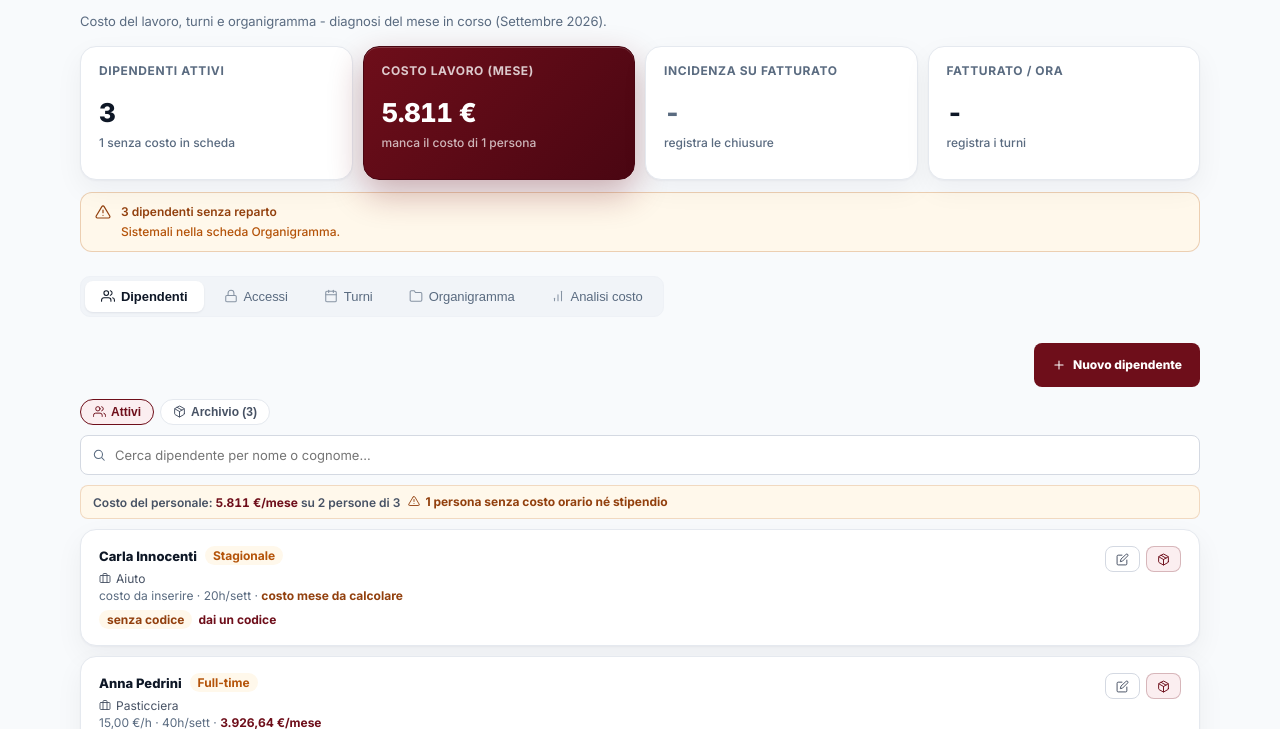
Test case: La settimana mostrata, e i confini che la spostano › «successiva» sposta di sette giorni esatti, non di sei
Step 1. Click the button "Turni" → [348, 296], box [308,280,389,312]
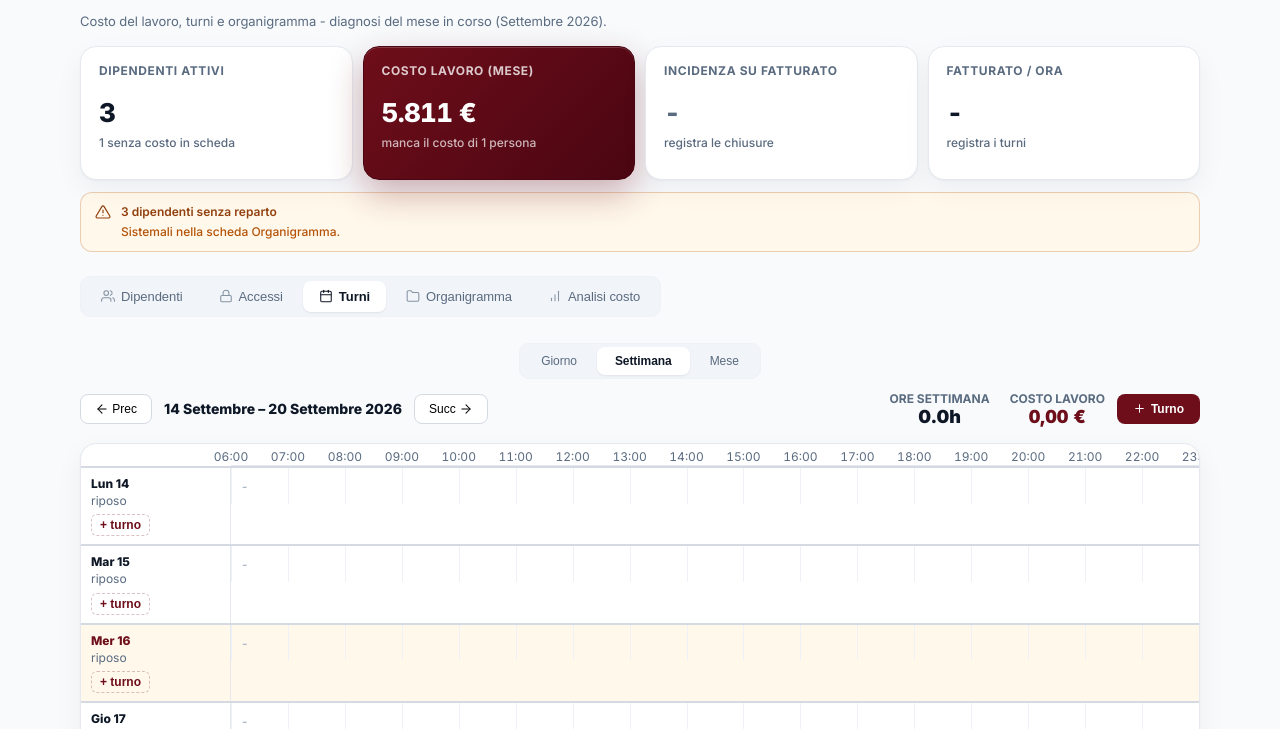
Check: the text "Costo lavoro" is shown, box [382,62,534,78]
Check: the text "14 settembre" is shown, box [164,400,402,417]
Step 2. Click the button with aria-label "Periodo successivo" → [451, 408], box [414,394,488,424]
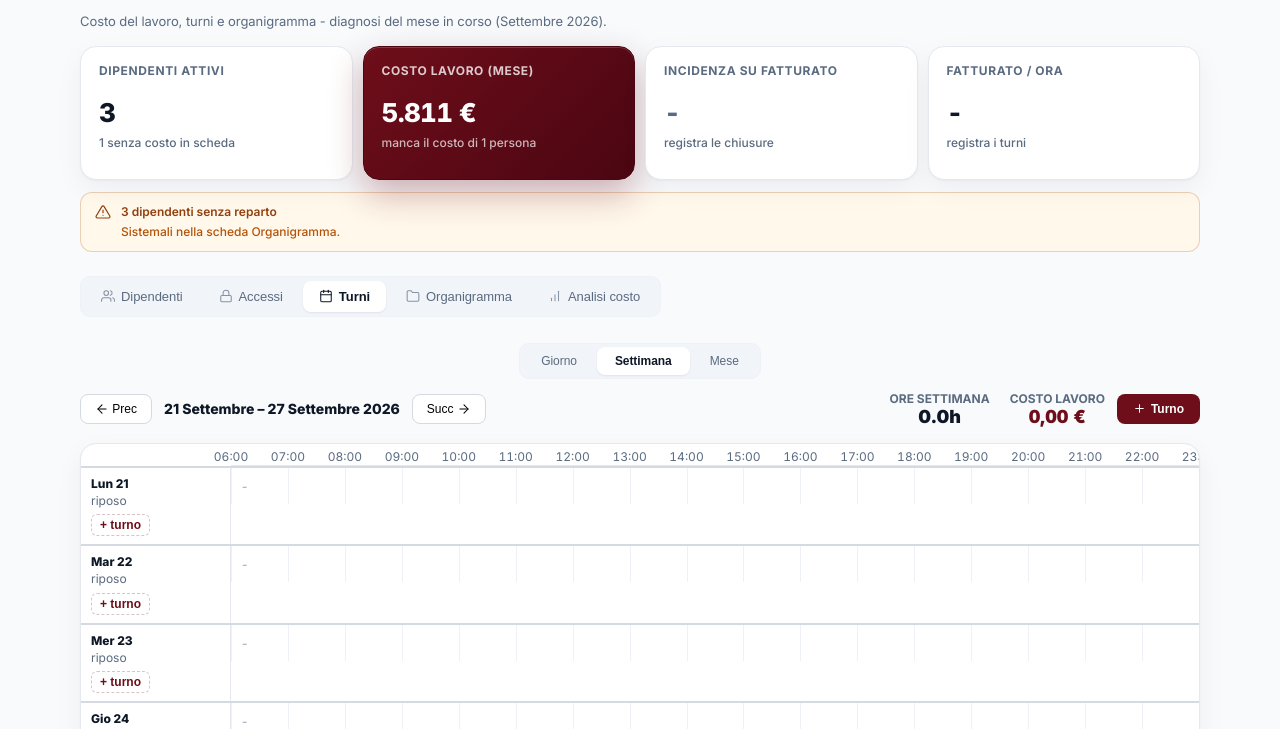
Check: the text "21 settembre" is shown, box [164,400,400,417]
